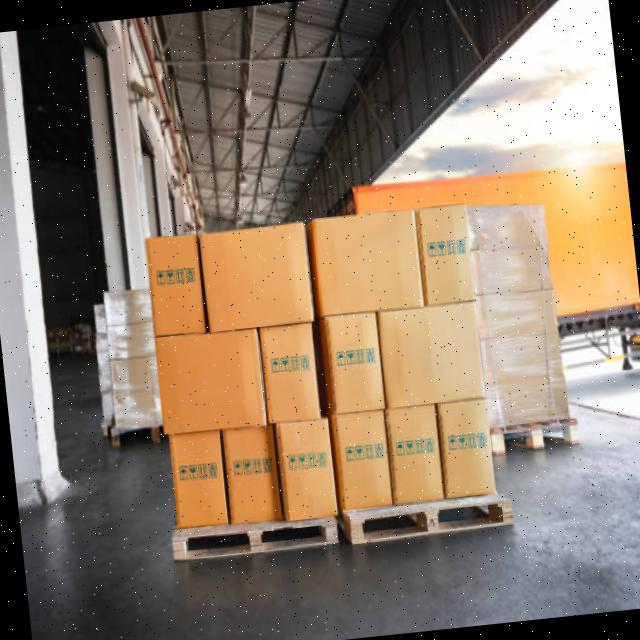Wooden-Pallets: (343, 486, 520, 554), (161, 509, 343, 571)
